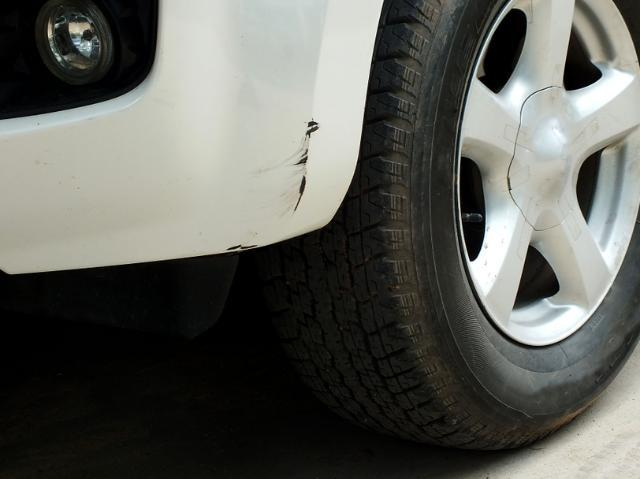Bumper: (209, 101, 363, 274)
